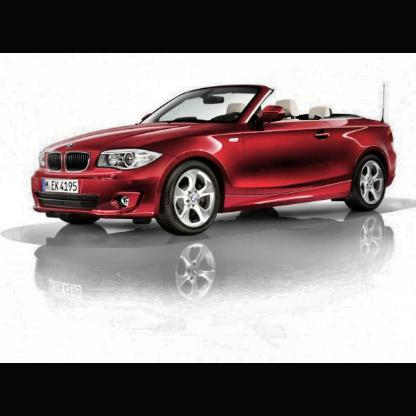BMW 1 Series Convertible 2012: (32, 84, 397, 237)
